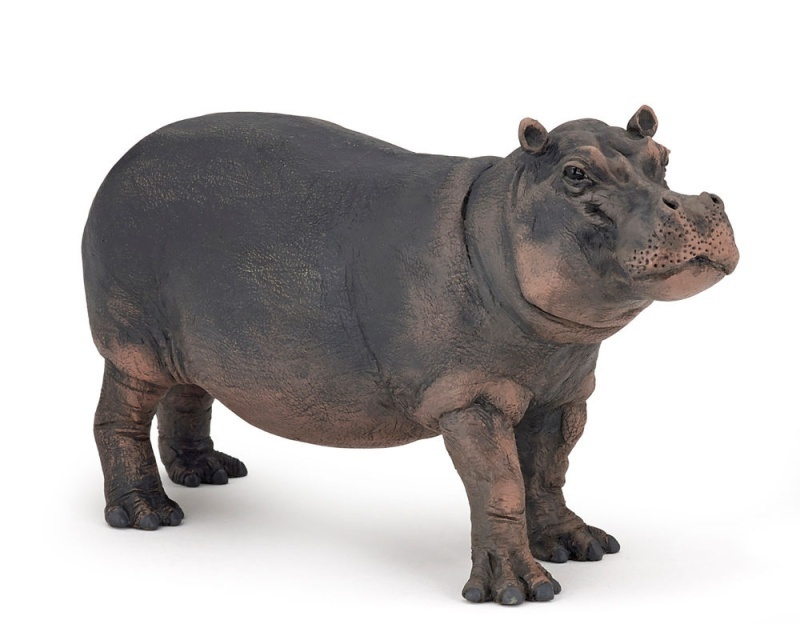hipopotamo: (58, 95, 740, 612)
